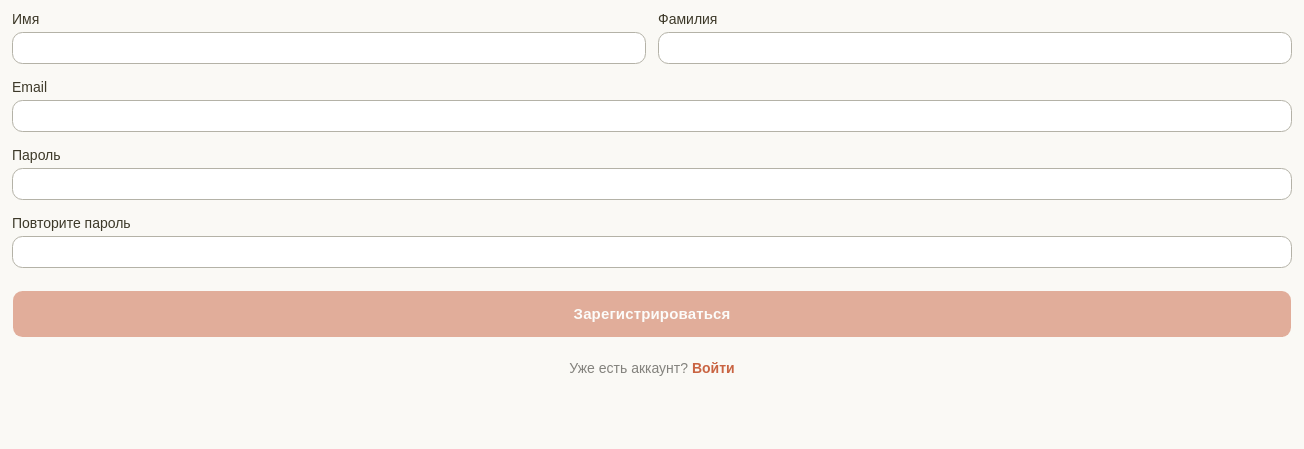
it: SignupForm › если email уже занят — показывает «Введенный Email уже занят», не редиректит
The width and height of the screenshot is (1304, 449).
Type "Иван" into the field labelled "Имя" at (329, 48), box x1=12 y1=32 x2=646 y2=64
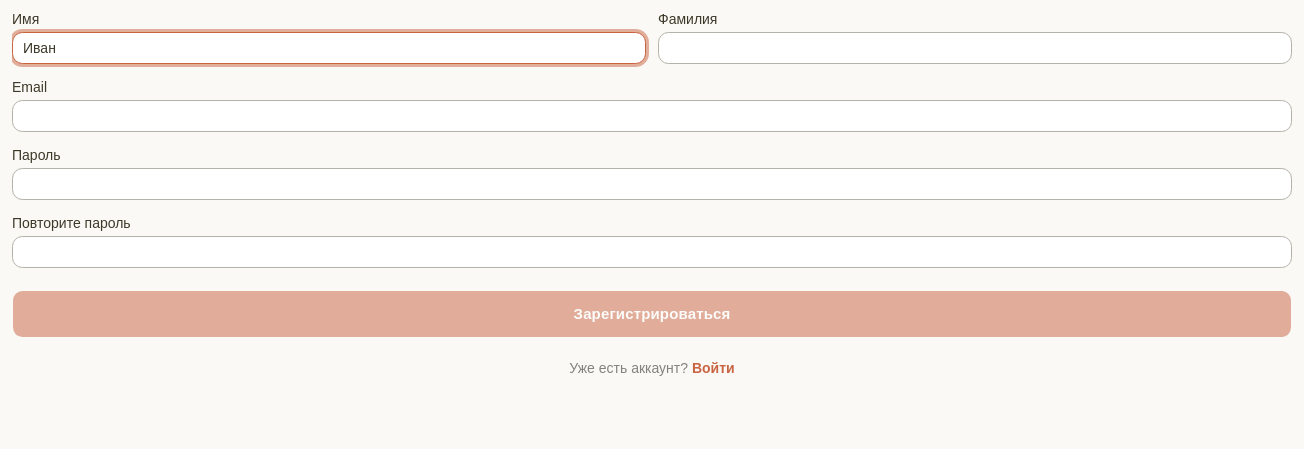
Type "Иванов" into the field labelled "Фамилия" at (975, 48), box x1=658 y1=32 x2=1292 y2=64
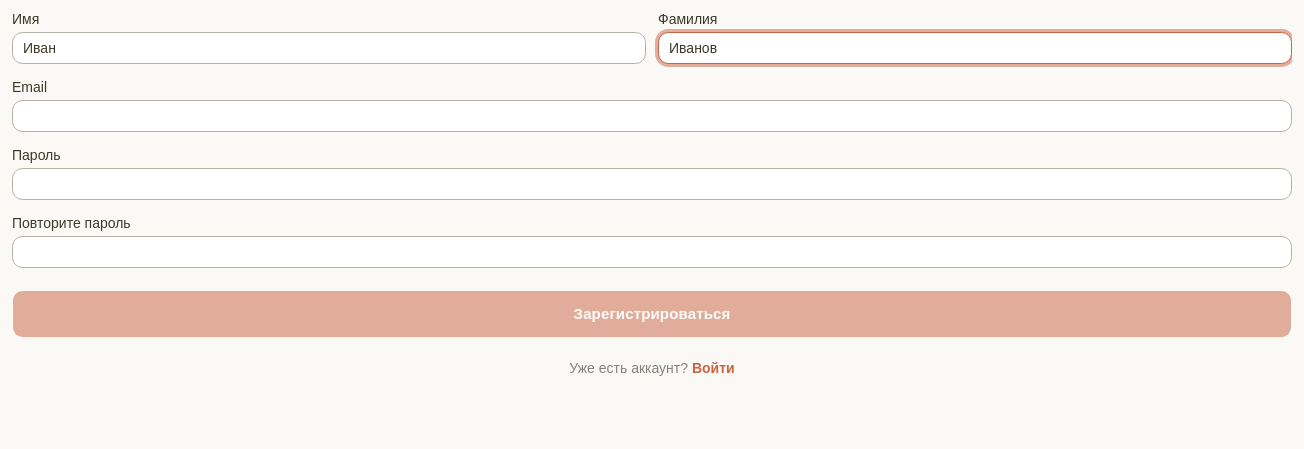
Type "new@formcraft.dev" into the field labelled "Email" at (652, 116), box x1=12 y1=100 x2=1292 y2=132
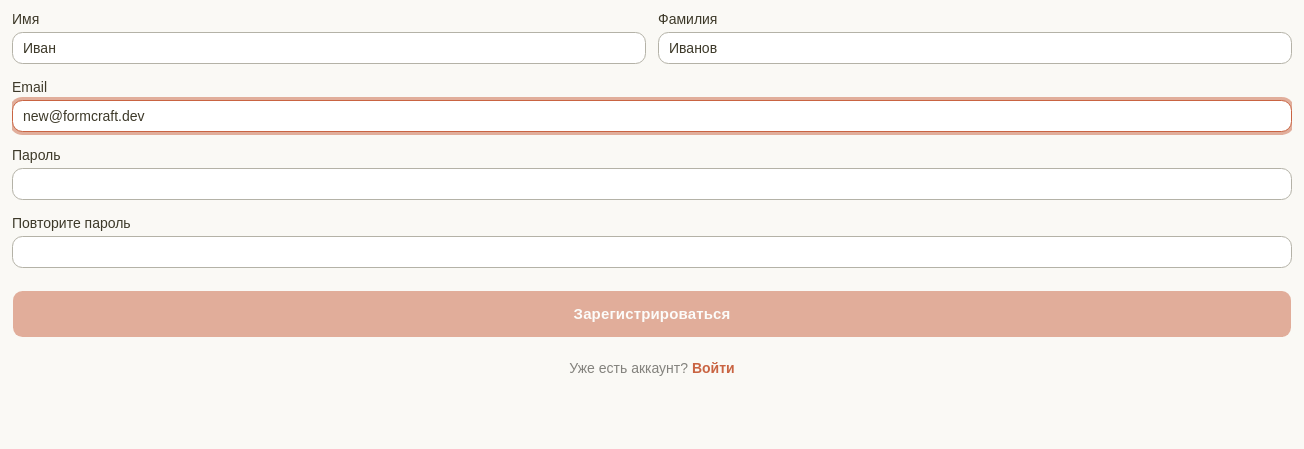
Type "password123" into the password field labelled "Пароль" at (652, 184), box x1=12 y1=168 x2=1292 y2=200
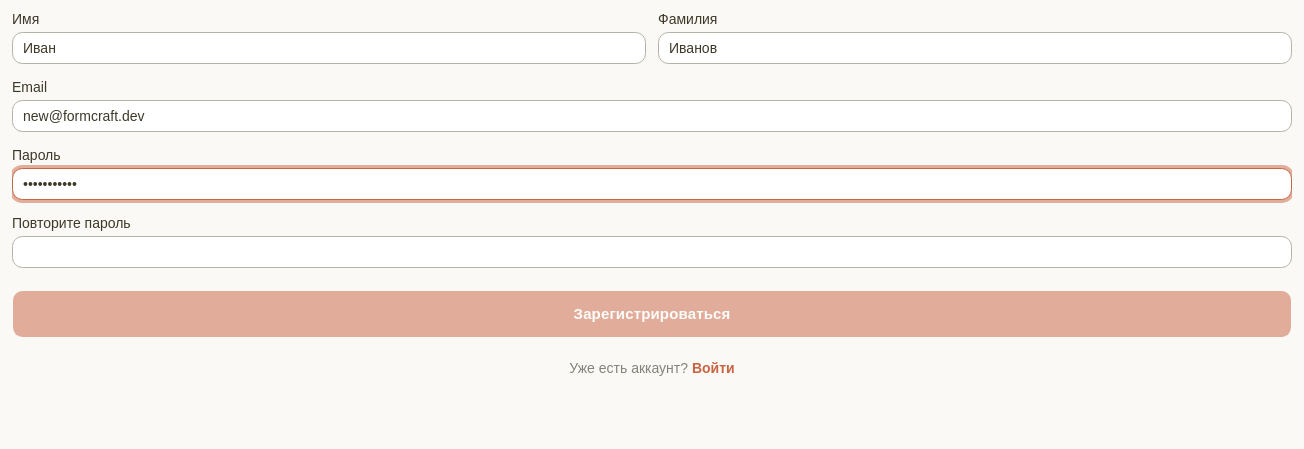
Type "password123" into the password field labelled "Повторите пароль" at (652, 252), box x1=12 y1=236 x2=1292 y2=268
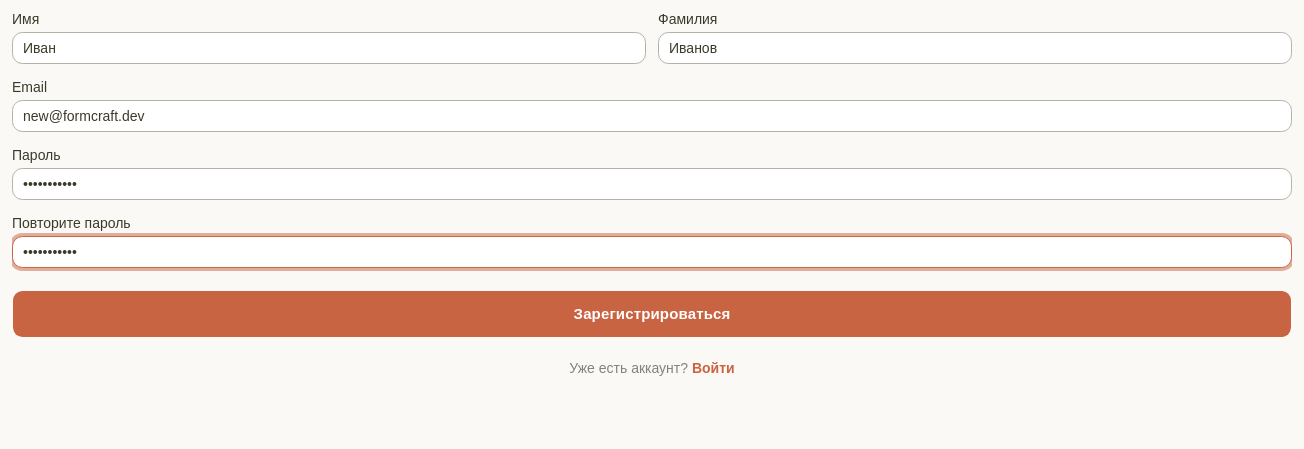
Click the button "Зарегистрироваться" at (652, 314), box x1=12 y1=290 x2=1292 y2=338
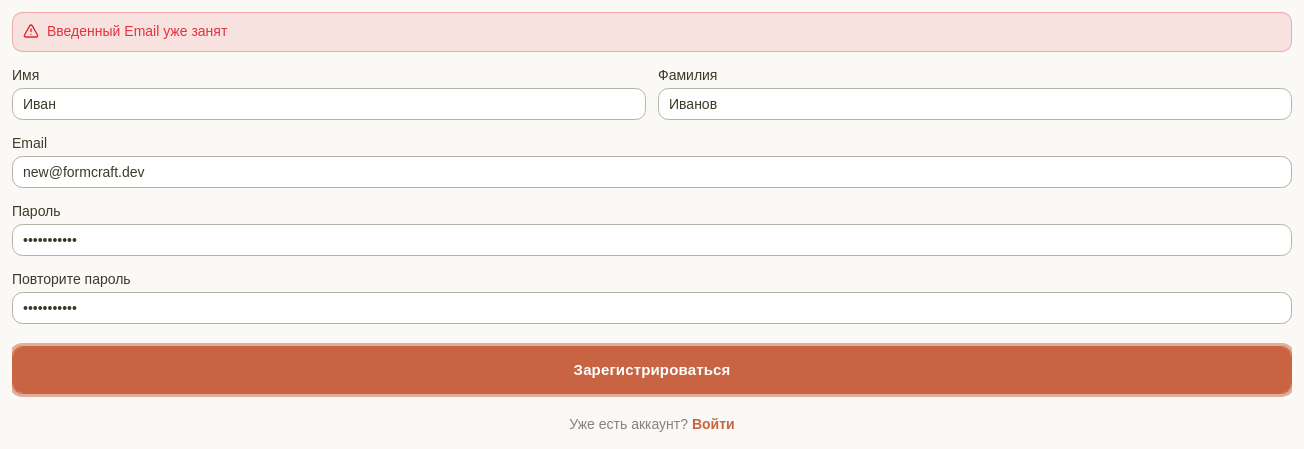
Check: the text "Введенный Email уже занят" is shown, box x1=47 y1=23 x2=227 y2=39
